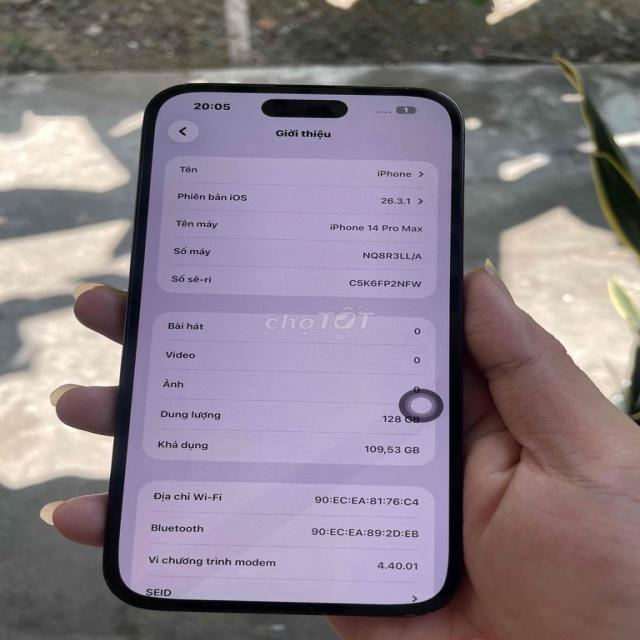gen_14: (102, 84, 470, 622)
